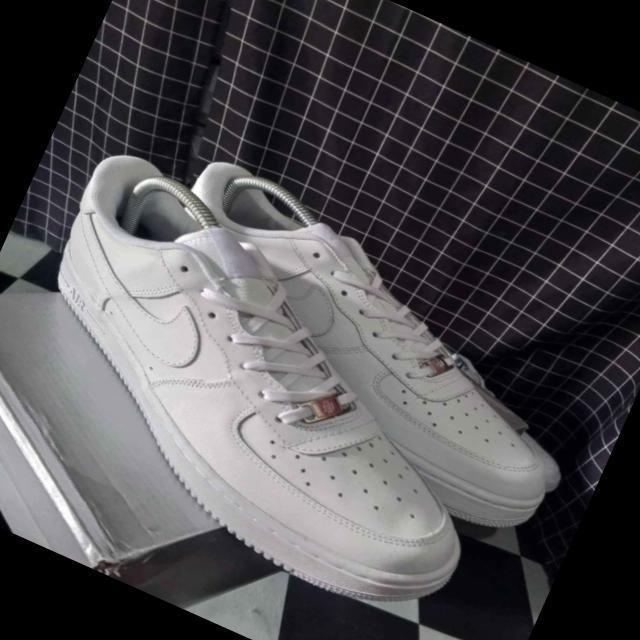nike fake air force: (0, 143, 559, 637), (100, 156, 622, 556)
